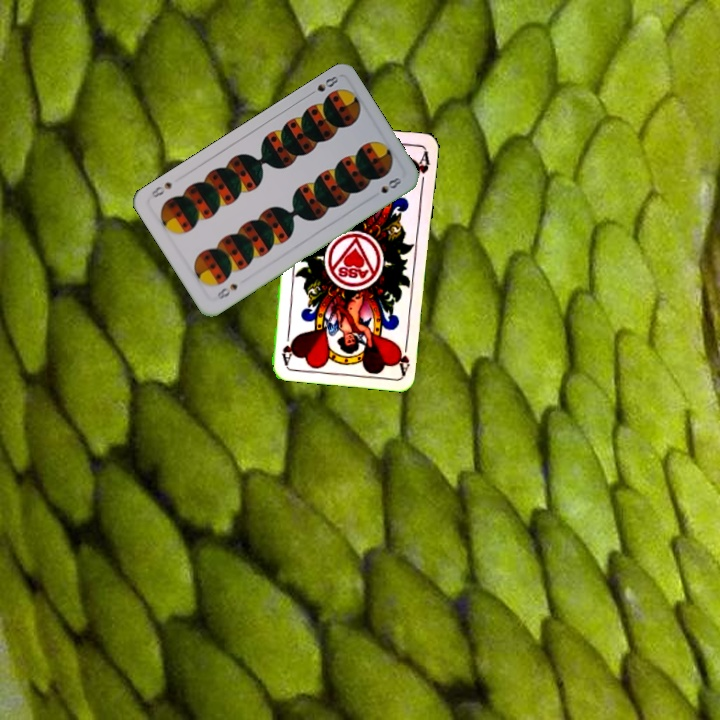HA: (393, 335, 412, 376)
S8: (304, 72, 341, 99), (213, 279, 240, 302)
